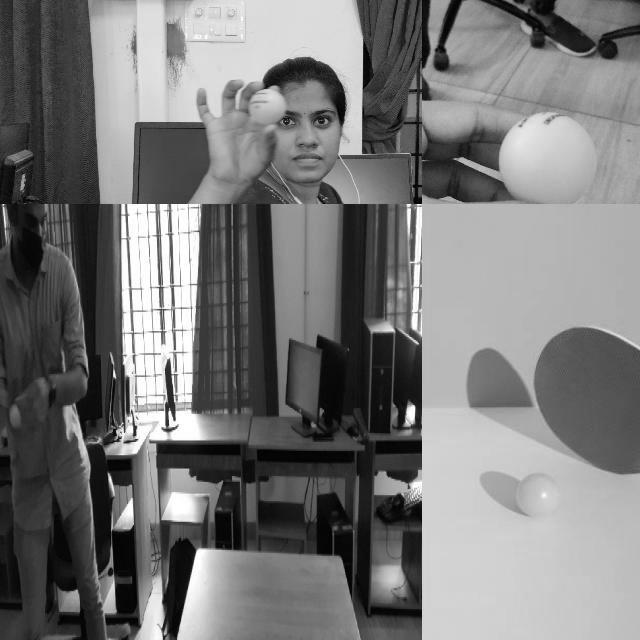ping-pong-ball: (496, 111, 594, 203), (518, 474, 558, 514), (249, 90, 285, 122), (8, 403, 22, 434)
